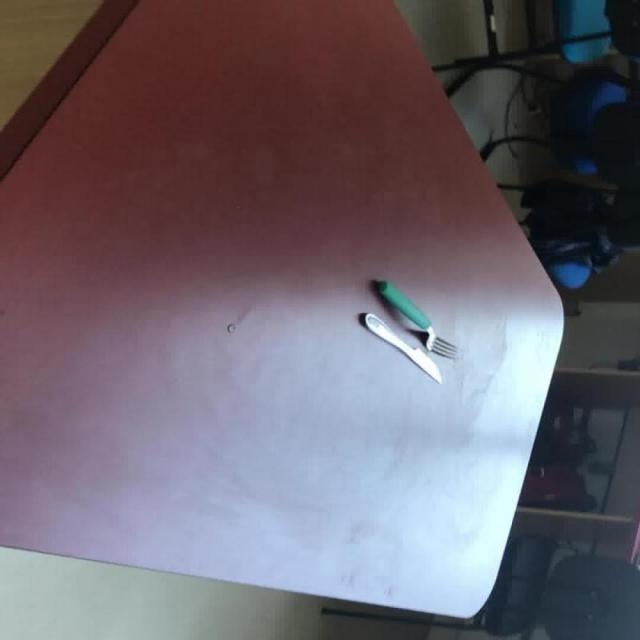Fork: (374, 279, 458, 359)
Knife: (358, 311, 442, 384)
